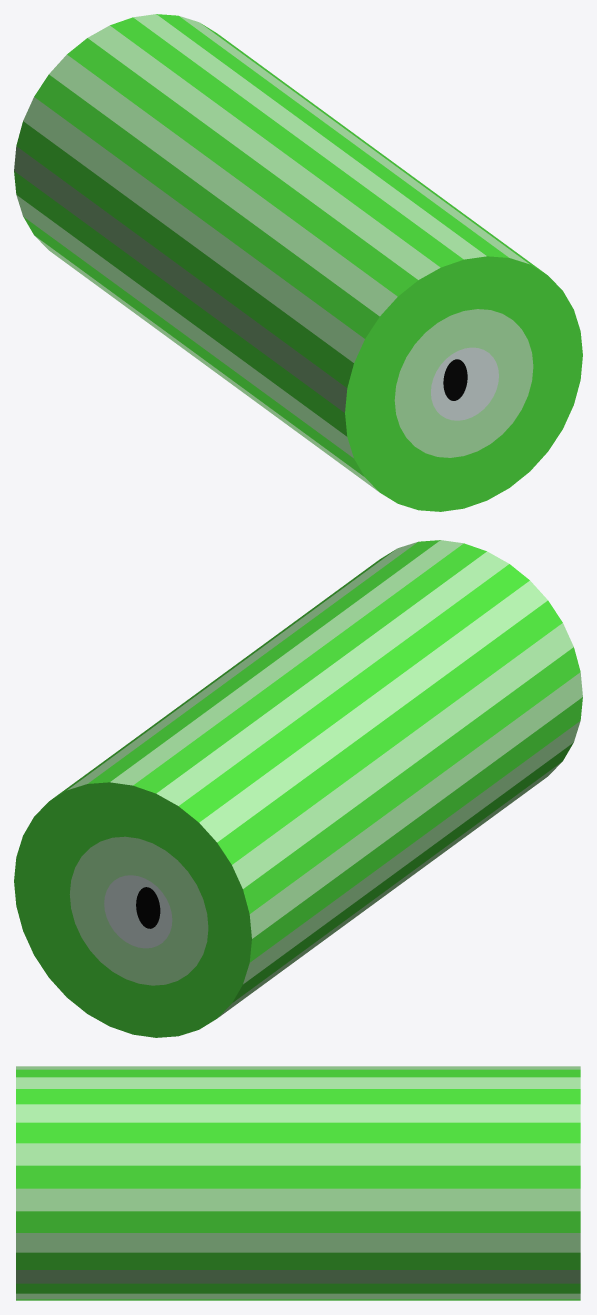
File: cabeza-cilindroPlayer.glb
The picture shows the model from 3 angles, top to bottom: view 1: azimuth 30°, elevation 25°; view 2: azimuth 150°, elevation 25°; view 3: azimuth 270°, elevation 25°; orthographic projection. The views are drawn at different scales.
Parts seen in each view (by area): view 1: Cylinder; view 2: Cylinder; view 3: Cylinder.
Part boxes in pixels (left/top/right/bottom): Cylinder: left=14, top=14, right=582, bottom=511; Cylinder: left=14, top=540, right=582, bottom=1037; Cylinder: left=16, top=1066, right=580, bottom=1300.
Size of the model in its own units: 2 by 2 by 4.85.
